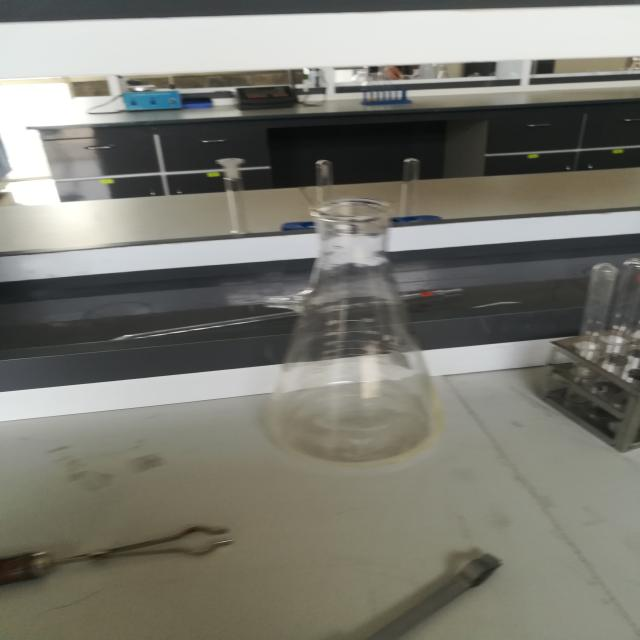Conical_Flask: (246, 178, 471, 476)
